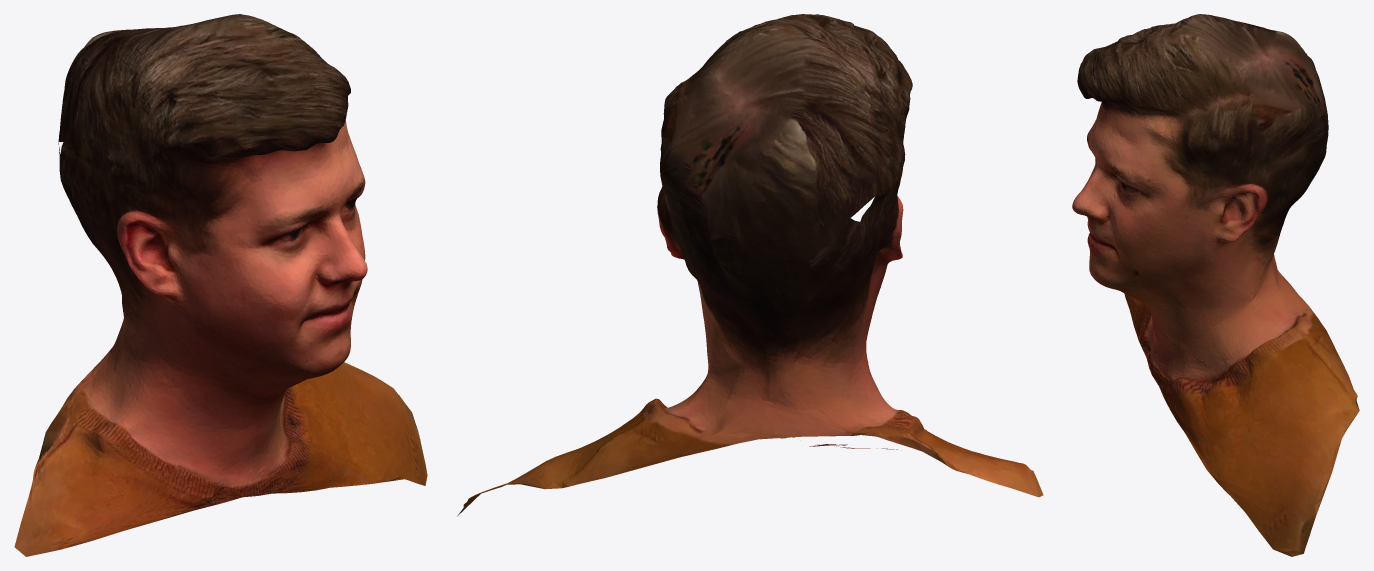
File: Lucca.glb
3 renders of one model, left to right at view 1: azimuth 30°, elevation 25°; view 2: azimuth 150°, elevation 25°; view 3: azimuth 270°, elevation 25°, orthographic. The views are drawn at different scales.
Visible parts, largest first — view 1: Mesh_0.010; view 2: Mesh_0.010; view 3: Mesh_0.010.
Part boxes in pixels (x1=…): Mesh_0.010: x1=14, y1=14, x2=427, y2=556; Mesh_0.010: x1=457, y1=14, x2=1043, y2=516; Mesh_0.010: x1=1072, y1=14, x2=1359, y2=556.
Bounding box in the file's own units: 0.3635 × 0.3848 × 0.2337.
Materials: 1 (1 with a texture image).
